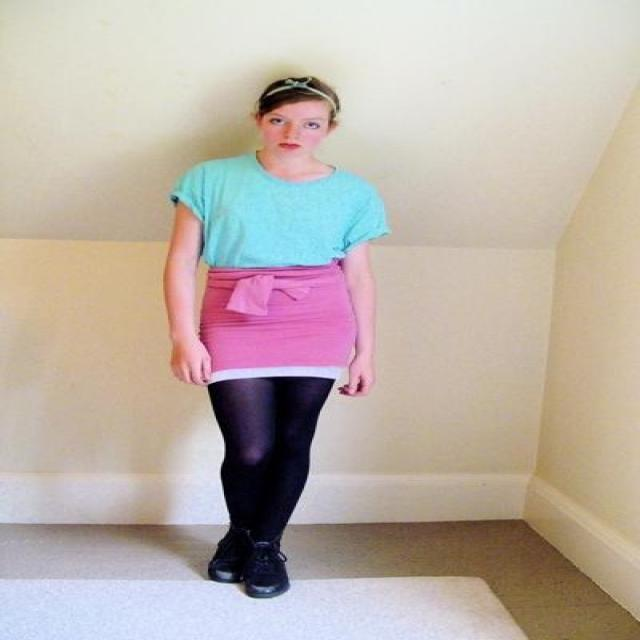shirt: (173, 156, 387, 266)
shoe: (208, 532, 290, 598)
skirt: (198, 258, 364, 394)
